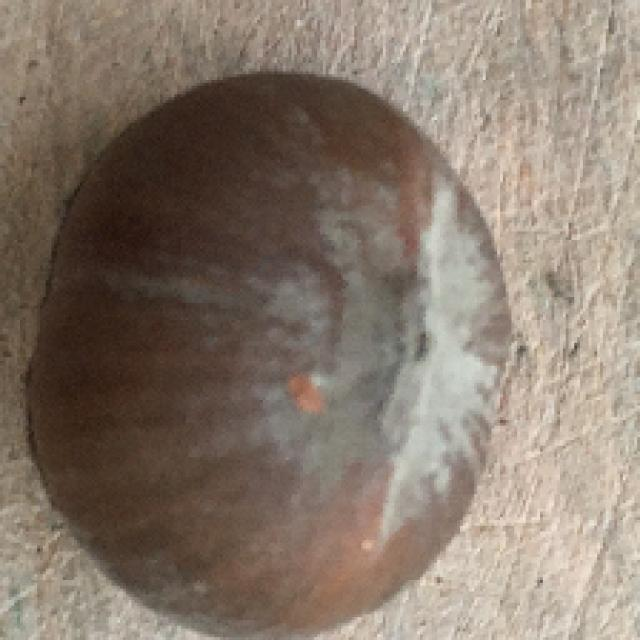damagedHazelnut: (26, 71, 507, 640)
